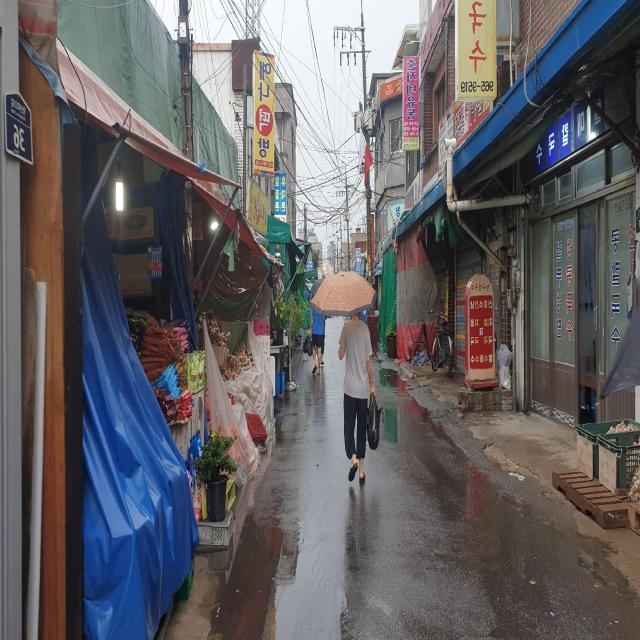bicycle ahead at: (428, 300, 457, 381)
person ahead at: (312, 266, 385, 494)
plant ahead at: (193, 431, 236, 517)
